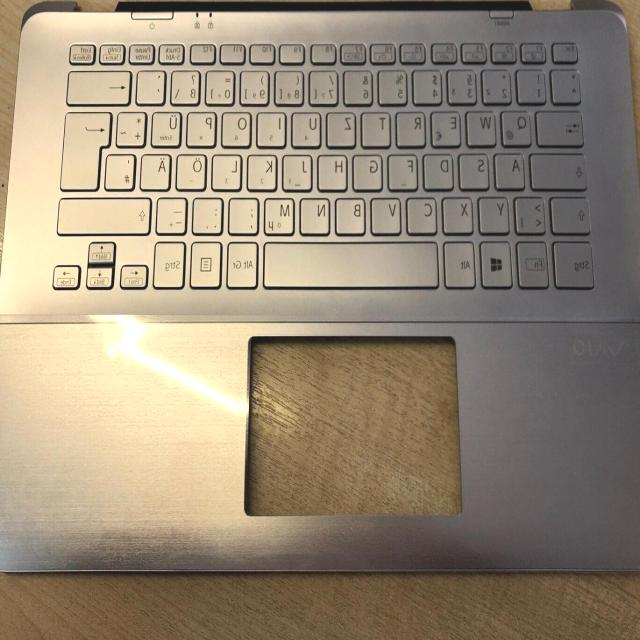0: (208, 67, 239, 103)
1: (519, 67, 549, 102)
2: (484, 66, 515, 102)
3: (450, 66, 480, 102)
4: (415, 66, 445, 102)
5: (381, 66, 411, 102)
6: (346, 67, 376, 103)
7: (311, 67, 341, 103)
8: (277, 67, 308, 103)
9: (242, 67, 273, 103)
a: (496, 150, 528, 188)
accent: (138, 66, 168, 102)
ae: (142, 150, 174, 188)
alt-left: (446, 238, 479, 286)
altgr-right: (229, 238, 261, 286)
b: (338, 194, 370, 232)
c: (409, 194, 441, 232)
caret: (554, 66, 584, 102)
comma: (231, 194, 263, 232)
d: (426, 150, 457, 188)
del: (70, 67, 134, 103)
e: (433, 108, 464, 146)
enter: (62, 108, 116, 189)
f: (390, 151, 421, 189)
g: (356, 151, 386, 189)
h: (320, 151, 351, 189)
hash: (107, 150, 139, 188)
i: (259, 109, 289, 145)
j: (284, 151, 316, 189)
k: (249, 150, 281, 188)
keyboard: (32, 14, 618, 320)
l: (214, 151, 245, 189)
less: (517, 193, 549, 232)
m: (267, 194, 299, 233)
minus: (158, 194, 190, 232)
n: (302, 194, 334, 232)
o: (224, 108, 256, 146)
oe: (178, 151, 210, 189)
p: (189, 108, 220, 144)
plus: (118, 107, 150, 145)
point: (195, 194, 227, 232)
q: (503, 107, 535, 145)
r: (398, 108, 428, 146)
s: (461, 150, 493, 188)
shift-left: (554, 193, 594, 232)
shift-lock: (532, 150, 590, 188)
shift-right: (60, 193, 155, 232)
space: (267, 237, 441, 287)
ss: (172, 67, 204, 103)
strg-left: (555, 237, 599, 287)
strg-right: (155, 238, 188, 286)
t: (364, 109, 394, 145)
tab: (538, 107, 586, 145)
u: (294, 108, 325, 146)
ue: (153, 108, 185, 146)
v: (373, 194, 405, 232)
w: (469, 107, 500, 145)
x: (445, 193, 477, 232)
y: (480, 193, 512, 232)
z: (329, 108, 359, 146)
